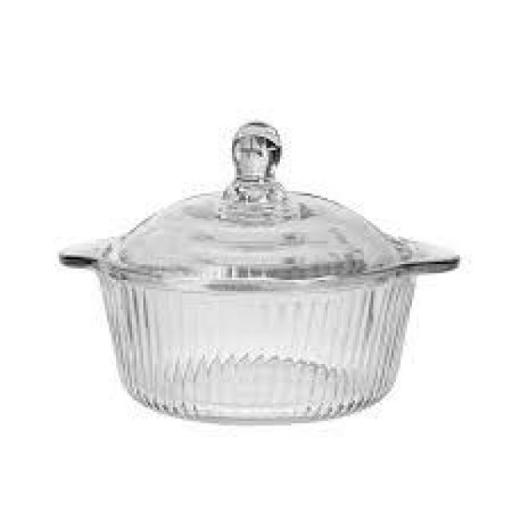glass: (40, 110, 470, 428)
